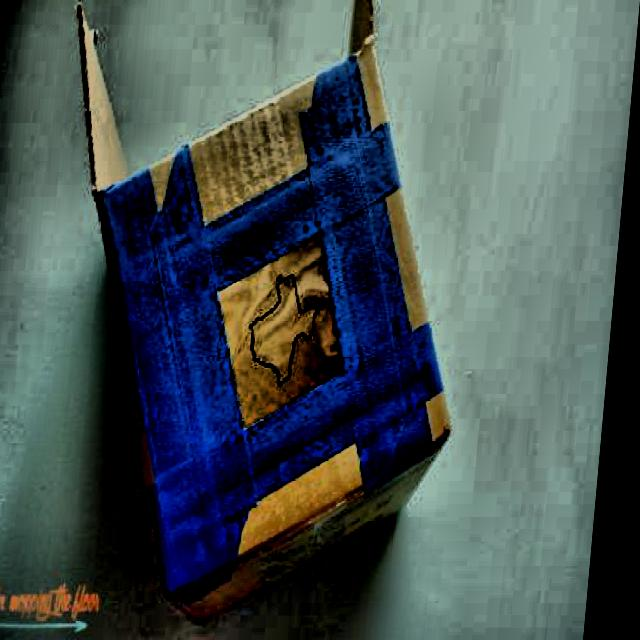Cardbox: (13, 0, 466, 608)
